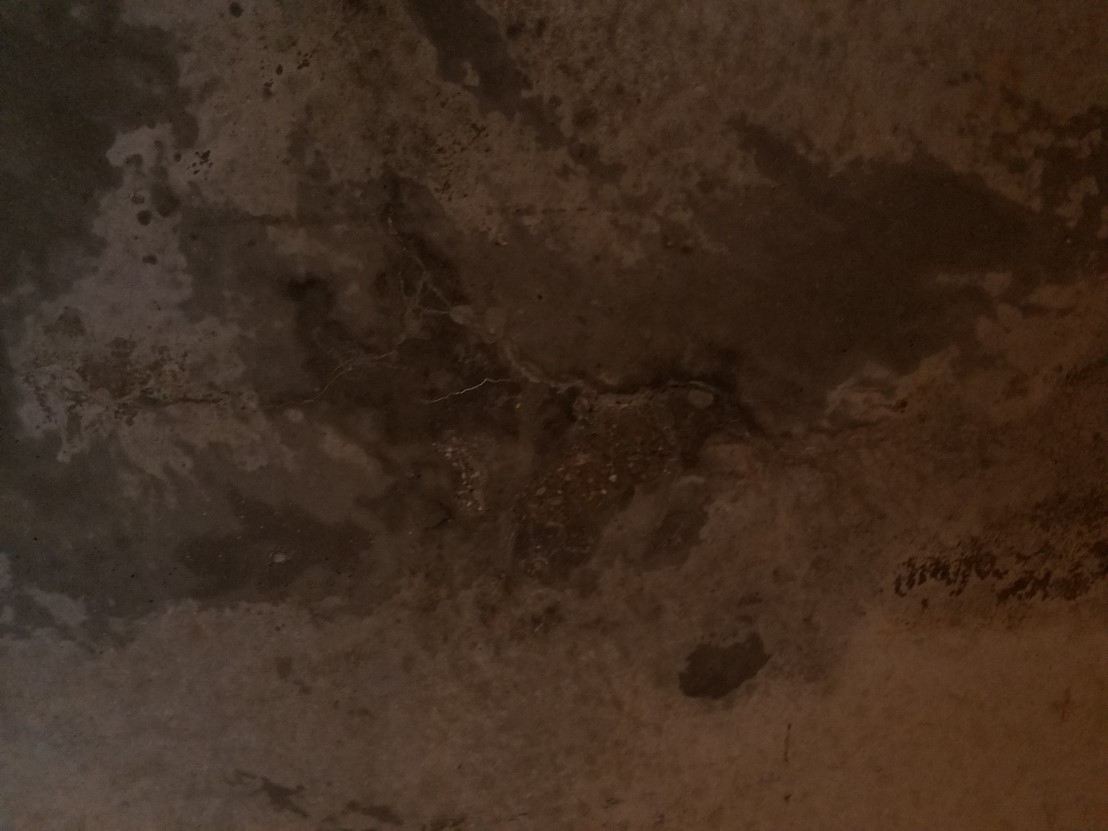Crack: (0, 310, 443, 431), (338, 98, 522, 383), (375, 359, 830, 442)
